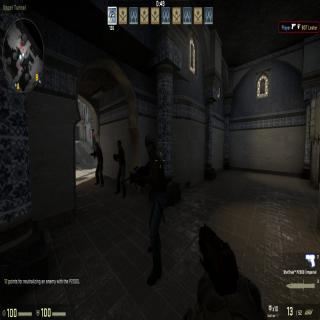T-Body: (136, 130, 170, 288), (112, 139, 128, 198), (90, 140, 106, 189)
T-Head: (142, 130, 158, 161), (114, 139, 122, 152), (94, 139, 101, 153)
